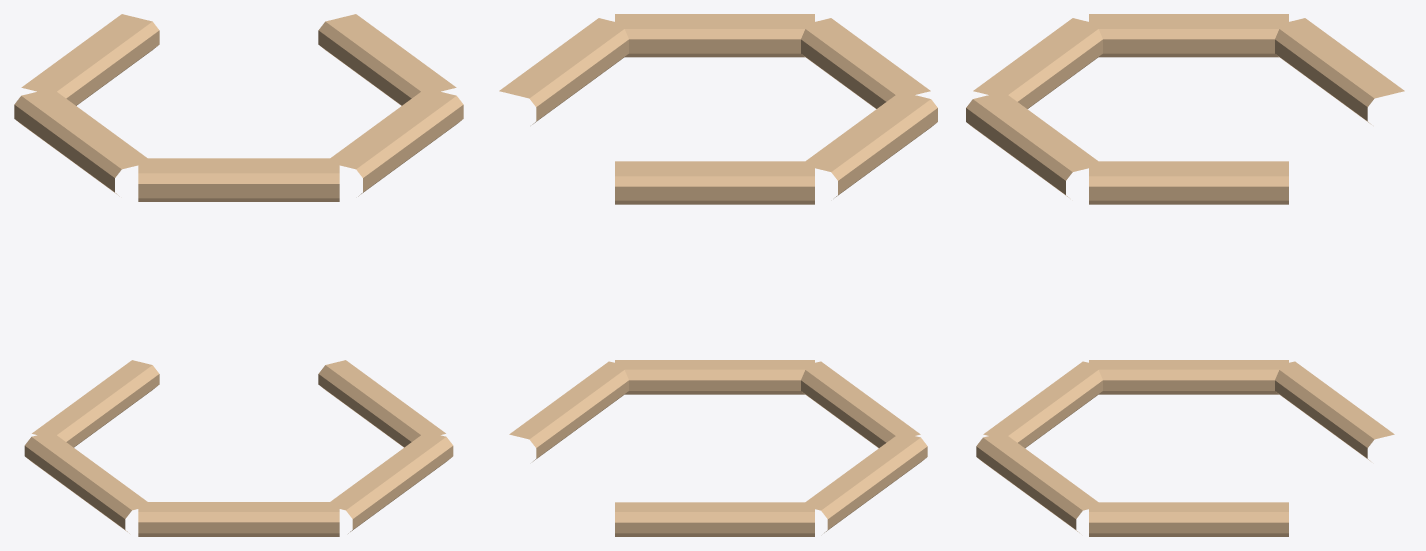
File: lotprop__lot_church_nave_pulpit_crown.glb
3 views of the same model, side by side, from view 1: azimuth 30°, elevation 25°; view 2: azimuth 150°, elevation 25°; view 3: azimuth 270°, elevation 25° (orthographic).
Parts seen in each view (by area): view 1: lotprop__lot_church_nave_pulpit_crown; view 2: lotprop__lot_church_nave_pulpit_crown; view 3: lotprop__lot_church_nave_pulpit_crown.
Part boxes in pixels (x1=…): lotprop__lot_church_nave_pulpit_crown: x1=14, y1=14, x2=463, y2=536; lotprop__lot_church_nave_pulpit_crown: x1=499, y1=14, x2=937, y2=536; lotprop__lot_church_nave_pulpit_crown: x1=966, y1=14, x2=1404, y2=536.
Size of the model in its own units: 1.02 by 1.03 by 1.14.
